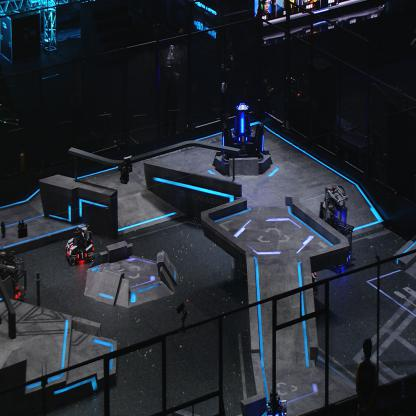car: (317, 185, 356, 270), (0, 246, 28, 306), (64, 224, 95, 264), (255, 388, 288, 416)
